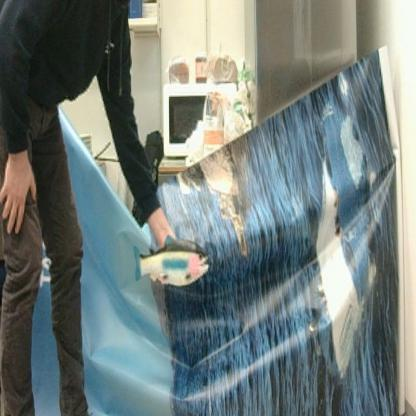rubberfish: (133, 234, 210, 288)
